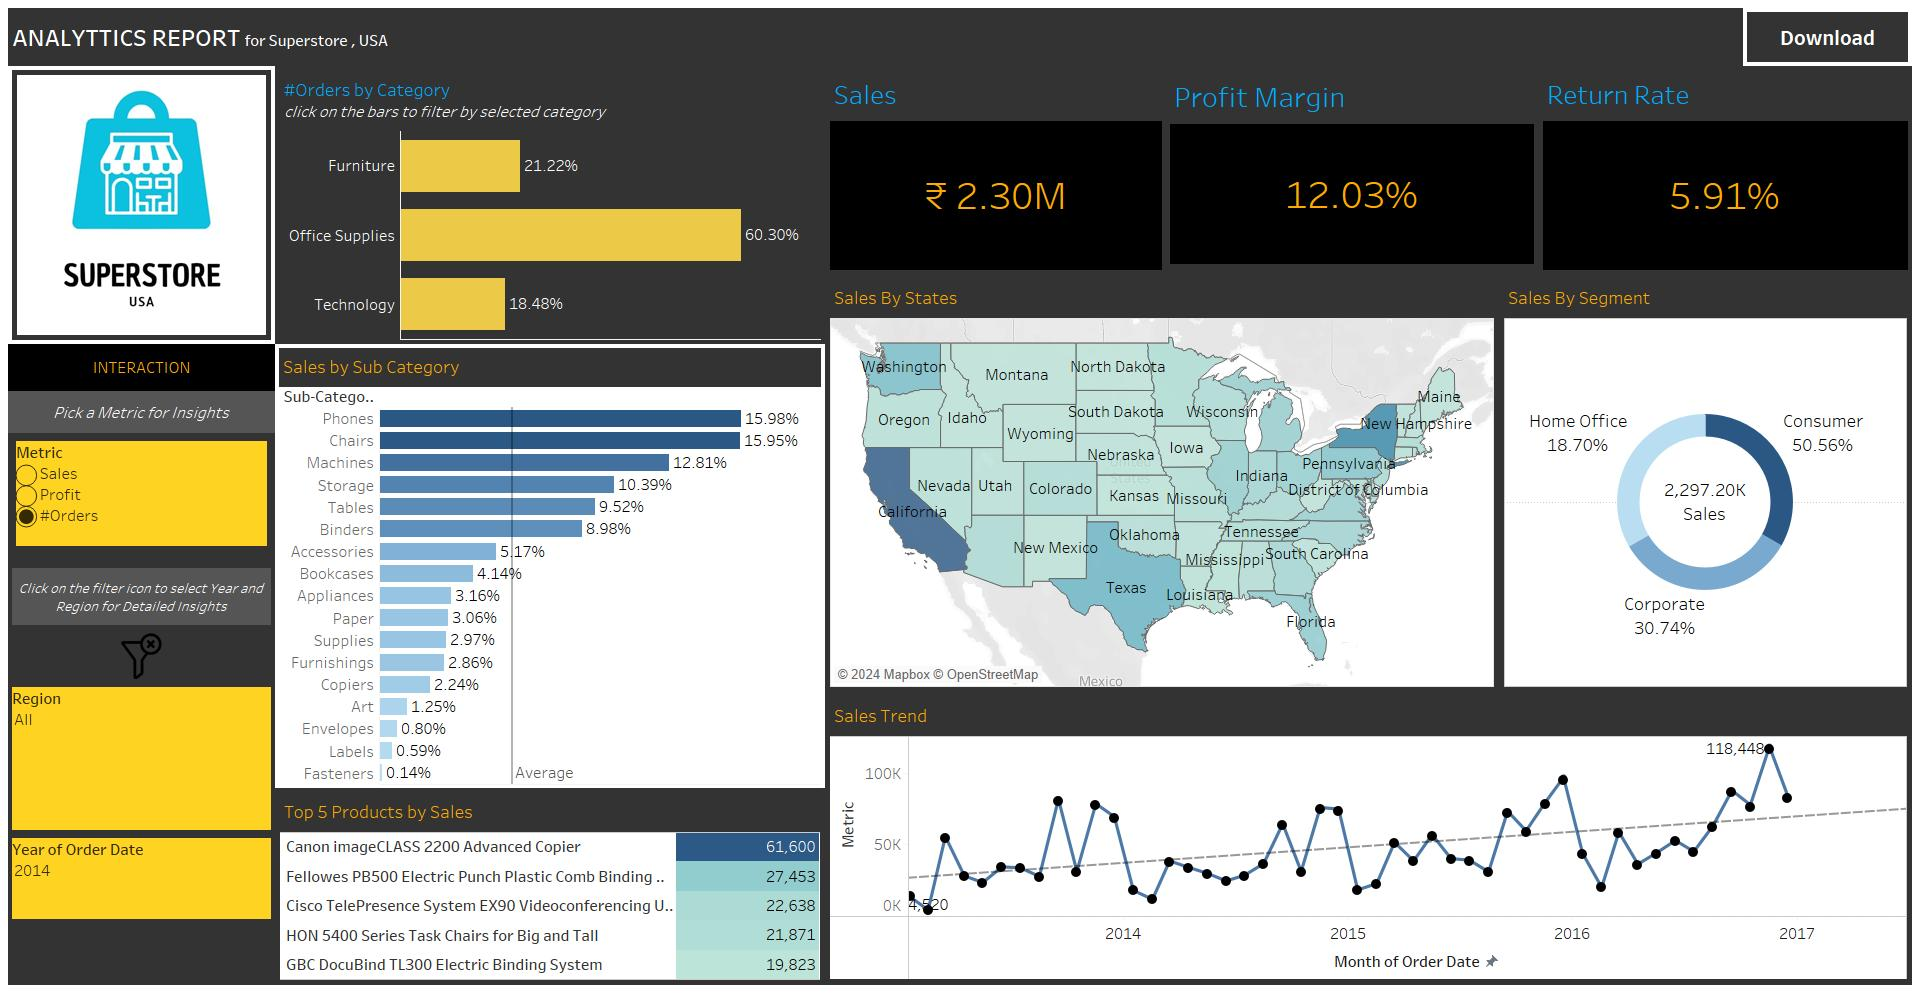

The dashboard page shown, as its layout file describes it:
{"tool":"tableau","page":{"name":"Dashboard 1","canvas":[1000,1000],"units":"permille","ordinal":0},"visuals":[{"type":"text","box":[4.8,10,902.2,58.3]},{"type":"dashboard-object","box":[907.1,10,88.1,58.3]},{"type":"image","param":"Image/SuperStorw.jpg","box":[4.8,68.3,138.7,278.4]},{"type":"worksheet","title":"Sheet 6","mark":"Automatic","rows":["Category"],"cols":["Calculation_1145884695921377281"],"box":[143.5,68.3,286.2,278.7]},{"type":"worksheet","title":"Sales","mark":"Automatic","box":[429.7,68.3,177.2,208.5]},{"type":"worksheet","title":"Profit Margin ","mark":"Automatic","box":[606.9,68.3,194,208.5]},{"type":"worksheet","title":"Return Rate","mark":"Automatic","box":[800.9,68.3,194.3,208.5]},{"type":"worksheet","title":"Sales By States","mark":"Multipolygon","box":[429.7,276.8,350.7,419.4]},{"type":"worksheet","title":"Sales By Segment","mark":"Pie","rows":["Calculation_774056251528593414","Calculation_774056251528593414"],"box":[780.4,276.8,214.7,419.4]},{"type":"text","box":[4.8,346.7,138.7,47.4]},{"type":"worksheet","title":"Sub Category Sales","mark":"Automatic","rows":["Sub-Category"],"cols":["Sales"],"box":[143.5,347,286.2,445.7]},{"type":"text","box":[4.8,394.2,138.7,42.3]},{"type":"parameter","param":"[Parameters].[Parameter 1]","box":[7.2,441.4,133.8,141.1]},{"type":"text","box":[4.8,600,138.7,81.2]},{"type":"dashboard-object","box":[4.8,681.1,138.7,67.4]},{"type":"worksheet","title":"line","mark":"Line","rows":["Sales","Sales"],"cols":["Order Date"],"box":[429.7,696.2,565.5,293.8]},{"type":"filter","title":"Sub Category Sales","param":"[federated.1rqfvao0hubzge1951rdn0a0wjhx].[none:Region:nk]","box":[4.8,748.6,138.7,130.3]},{"type":"worksheet","title":"Top5","mark":"Square","rows":["Product Name"],"box":[143.5,792.7,286.2,197.3]},{"type":"filter","title":"Sub Category Sales","param":"[federated.1rqfvao0hubzge1951rdn0a0wjhx].[yr:Order Date:ok]","box":[4.8,878.9,138.7,111.1]}]}

Visuals, with their boxes on the dashboard's canvas, which has no fixed pixel size, in thousandths of its width and height (x1, y1, x2, y2). These are canvas units, not pixel positions in the 1920x993 screenshot, which may show the page scaled, cropped or inside an application window:
text: BBox(5, 10, 907, 68)
dashboard-object: BBox(907, 10, 995, 68)
image: BBox(5, 68, 144, 347)
"Sheet 6" worksheet: BBox(144, 68, 430, 347)
"Sales" worksheet: BBox(430, 68, 607, 277)
"Profit Margin " worksheet: BBox(607, 68, 801, 277)
"Return Rate" worksheet: BBox(801, 68, 995, 277)
"Sales By States" worksheet (Multipolygon marks): BBox(430, 277, 780, 696)
"Sales By Segment" worksheet (Pie marks): BBox(780, 277, 995, 696)
text: BBox(5, 347, 144, 394)
"Sub Category Sales" worksheet: BBox(144, 347, 430, 793)
text: BBox(5, 394, 144, 436)
parameter: BBox(7, 441, 141, 582)
text: BBox(5, 600, 144, 681)
dashboard-object: BBox(5, 681, 144, 748)
"line" worksheet (Line marks): BBox(430, 696, 995, 990)
"Sub Category Sales" filter: BBox(5, 749, 144, 879)
"Top5" worksheet (Square marks): BBox(144, 793, 430, 990)
"Sub Category Sales" filter: BBox(5, 879, 144, 990)
